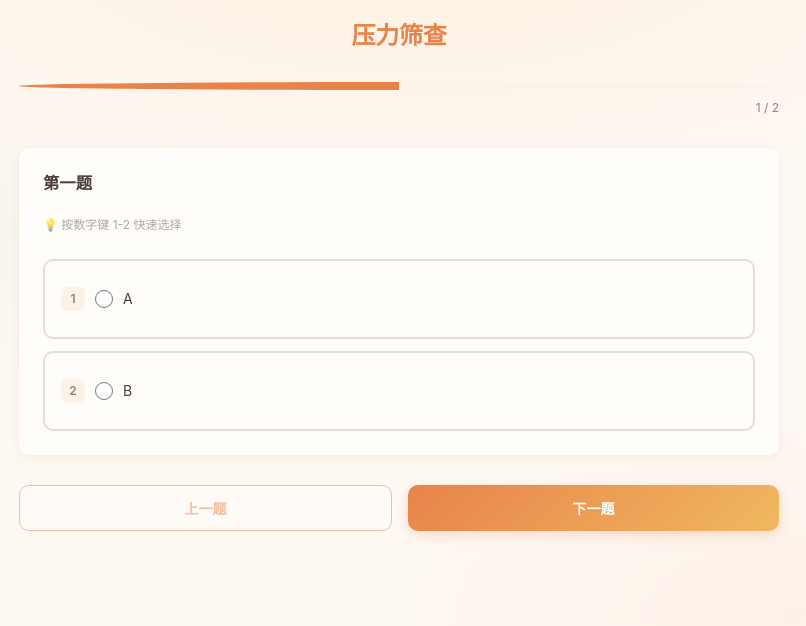
Scenario: Questionnaire submit failure recovery › keeps answers and the current question after submit failure without writing localStorage
Click the label with class "option-item" showing "2 B": (73,391) [43,351,755,431]
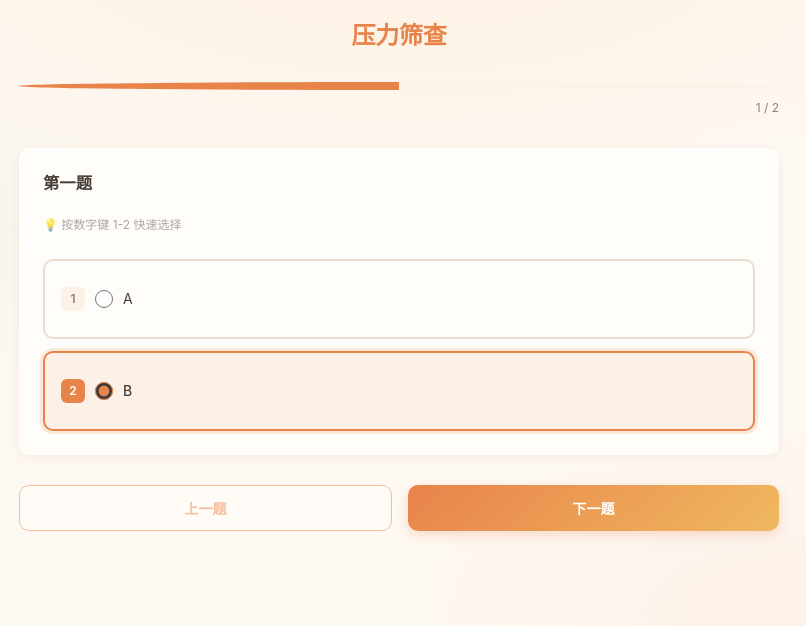
Click the button "下一题": (594,508) [408,485,779,531]
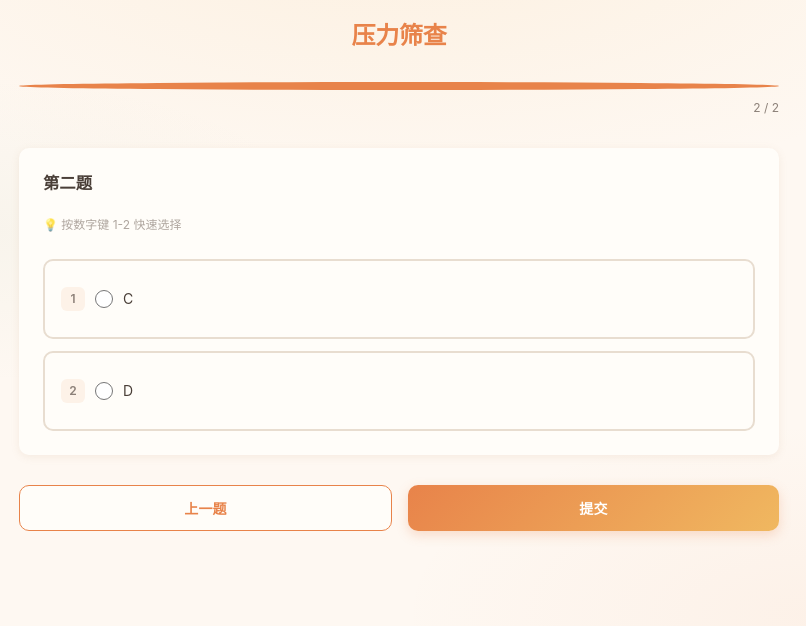
Click the label with class "option-item" showing "1 C": (73,299) [43,259,755,339]
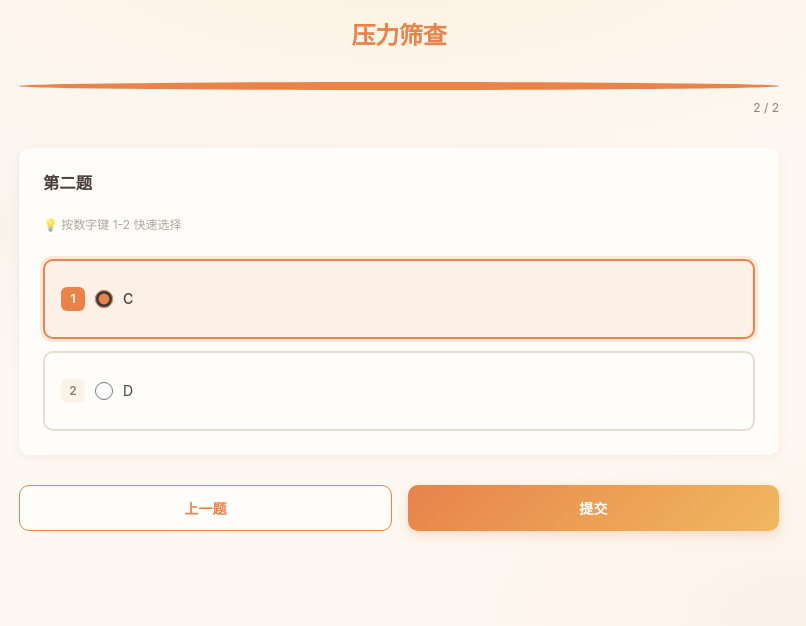
Click the button "提交": (594,508) [408,485,779,531]
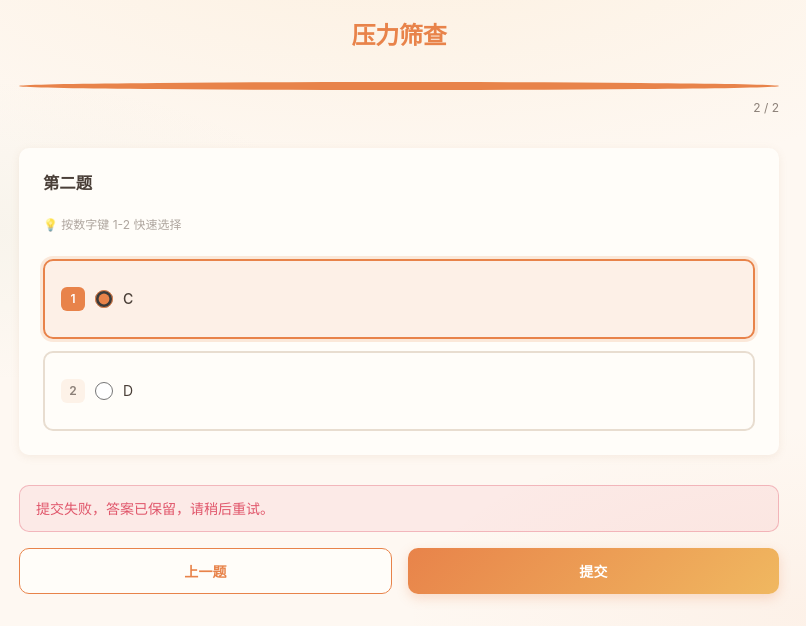
Check: the text "2 / 2" is shown, box [753,100,779,115]
Check: the message "提交失败，答案已保留，请稍后重试。" is shown, box [19,485,779,532]
Click the button with class "secondary": (206,571) [19,548,392,594]
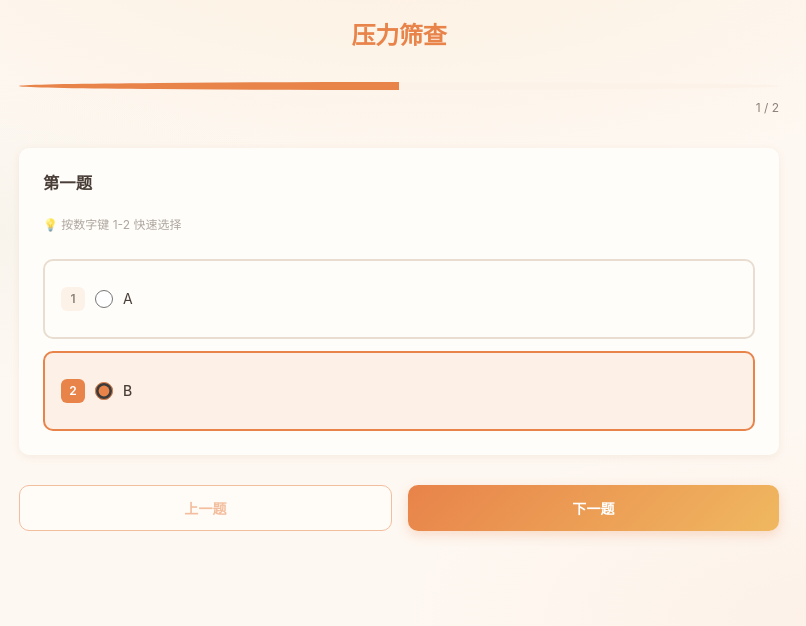
Check: the text "1 / 2" is shown, box [756,100,779,115]
